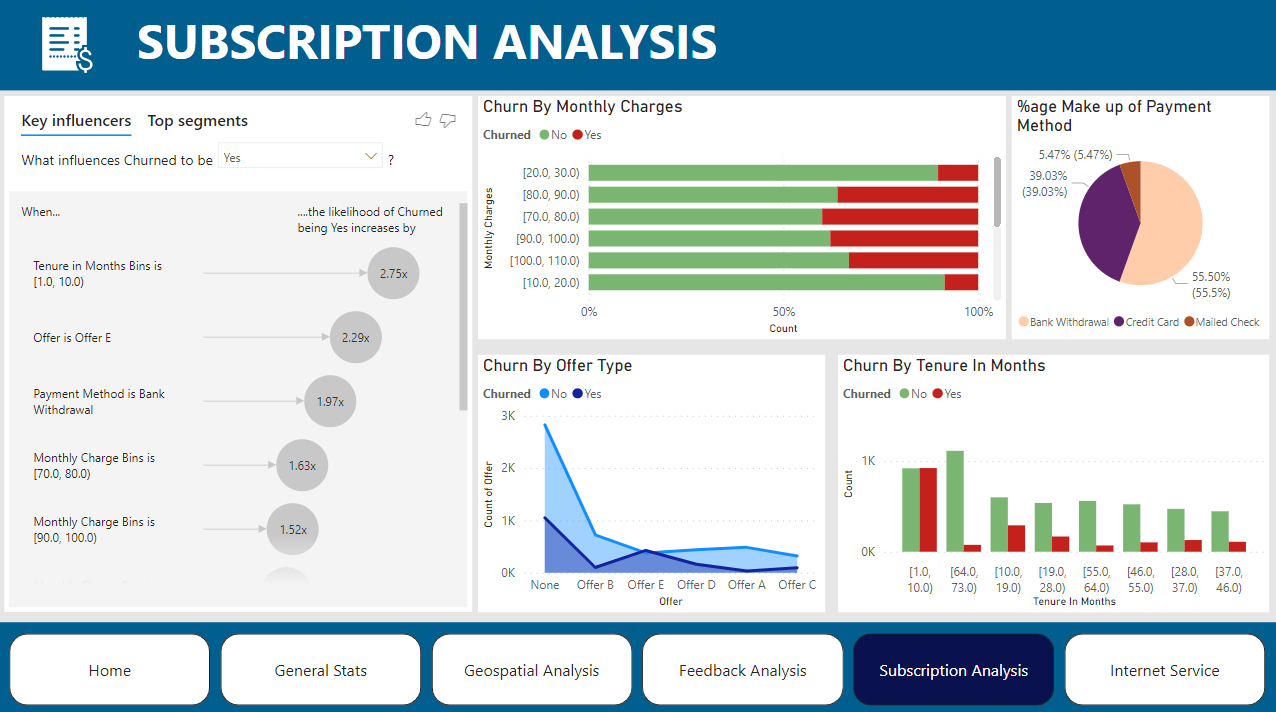

Layout of this report page (visuals, bound fields, positions):
{"tool":"powerbi","page":{"name":"Subscription Analysis","canvas":[1280,720],"ordinal":4},"visuals":[{"type":"shape","box":[0,0,1279.9,720],"z":0},{"type":"shape","box":[0,625.9,1279.9,94.1],"z":1000},{"type":"shape","box":[0,0,1279.9,94.1],"z":2000},{"type":"hundredPercentStackedBarChart","title":"Churn By Monthly Charges","fields":{"Category":["telecom_customer_churn_preprocessed_1.Monthly Charge Bins"],"Y":["CountNonNull(telecom_customer_churn_preprocessed_1.Monthly Charge Bins)"],"Series":["telecom_customer_churn_preprocessed_1.Churned"]},"box":[480.4,100.2,528.1,243.3],"z":3000},{"type":"areaChart","title":"Churn By Offer Type","fields":{"Category":["telecom_customer_churn_preprocessed_1.Offer"],"Y":["CountNonNull(telecom_customer_churn_preprocessed_1.Offer)"],"Series":["telecom_customer_churn_preprocessed_1.Churned"]},"box":[480.4,358.2,347.2,257.9],"z":4000},{"type":"pieChart","title":"%age Make up of Payment Method","fields":{"Category":["telecom_customer_churn_preprocessed_1.Payment Method"],"Y":["CountNonNull(telecom_customer_churn_preprocessed_1.Payment Method)"]},"box":[1013.4,100.2,257.9,243.3],"z":5000},{"type":"clusteredColumnChart","title":"Churn By Tenure In Months","fields":{"Category":["telecom_customer_churn_preprocessed_1.Tenure in Months Bins"],"Series":["telecom_customer_churn_preprocessed_1.Churned"],"Y":["CountNonNull(telecom_customer_churn_preprocessed_1.Tenure in Months Bins)"]},"box":[839.8,358.2,431.5,257.9],"z":6000},{"type":"keyDriversVisual","fields":{"Target":["telecom_customer_churn_preprocessed_1.Churned"],"ExplainBy":["telecom_customer_churn_preprocessed_1.Offer","telecom_customer_churn_preprocessed_1.Monthly Charge Bins","telecom_customer_churn_preprocessed_1.Payment Method","telecom_customer_churn_preprocessed_1.Tenure in Months Bins","telecom_customer_churn_preprocessed_1.Total Extra Data Charges Bins"]},"box":[6.1,100.2,468.2,515.9],"z":7000},{"type":"pageNavigator","box":[11,636.9,1256.6,72.1],"z":8000},{"type":"textbox","box":[133.2,6.1,1121,81.9],"z":9000},{"type":"image","box":[33,11,68.5,72.1],"z":9001}]}

Visuals, with their boxes in screenshot pixels (x1, y1, x2, y2), scaled from the page's 1280x720 canvas onto the 1276x712 screenshot:
shape: locate(0, 0, 1275, 711)
shape: locate(0, 619, 1275, 711)
shape: locate(0, 0, 1275, 93)
"Churn By Monthly Charges" hundredPercentStackedBarChart: locate(479, 99, 1005, 340)
"Churn By Offer Type" areaChart: locate(479, 354, 825, 609)
"%age Make up of Payment Method" pieChart: locate(1010, 99, 1267, 340)
"Churn By Tenure In Months" clusteredColumnChart: locate(837, 354, 1267, 609)
keyDriversVisual - telecom_customer_churn_preprocessed_1.Churned x telecom_customer_churn_preprocessed_1.Offer: locate(6, 99, 473, 609)
pageNavigator: locate(11, 630, 1264, 701)
textbox: locate(133, 6, 1250, 87)
image: locate(33, 11, 101, 82)
